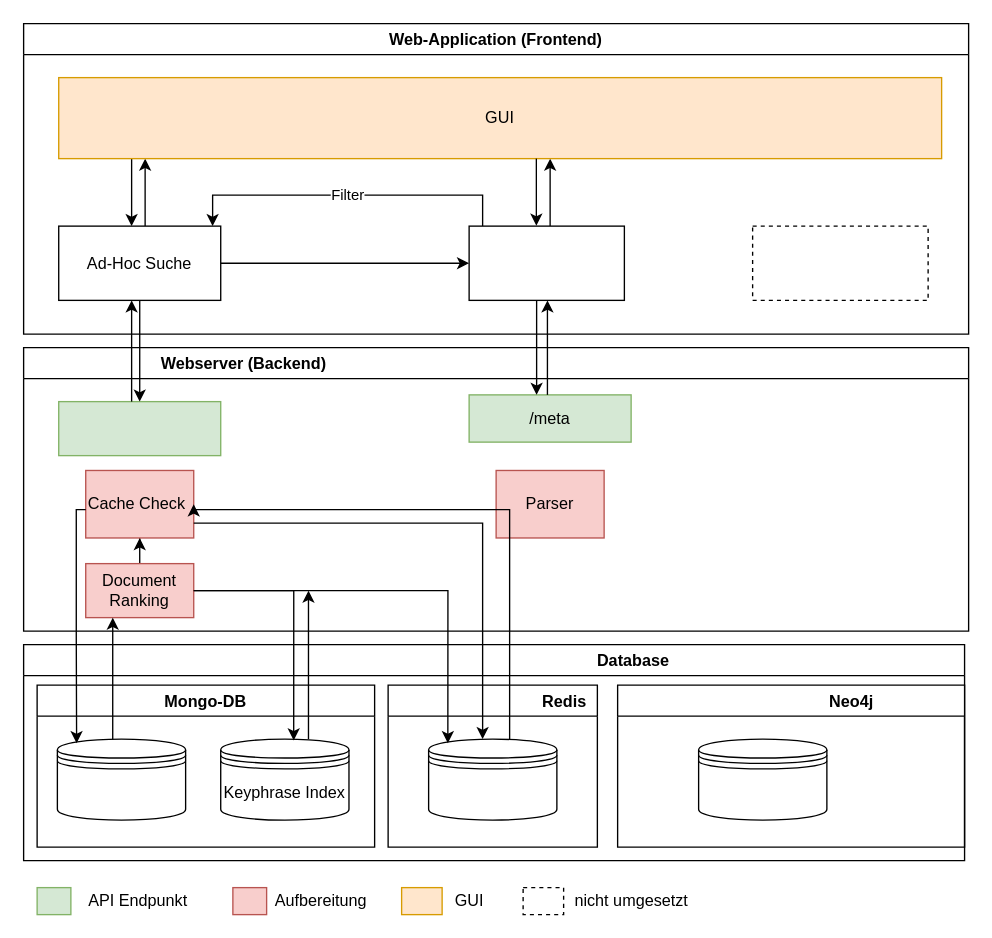
This 992x938 diagram has some shape labels left out. The shapes that lost their labels are listed below. From the top down, each one's centre as x and y in pixels, then its label:
the point at 546,262: Metadatenanalyse
the point at 839,262: Knowledge Discovery
the point at 139,428: /search
the point at 121,779: Dokument Index
the point at 492,779: Query Cache
the point at 762,779: Metadaten Property-Graph
